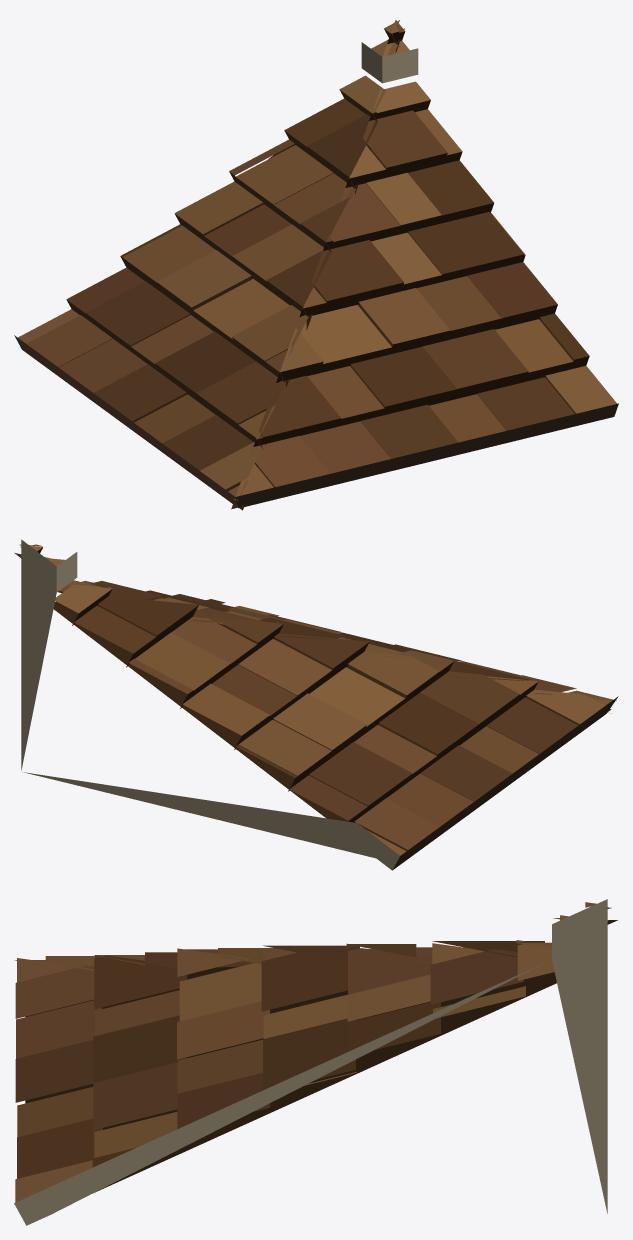
The model's file is roof-corner-wood.glb.
3 views of the same model, one above another, from view 1: azimuth 30°, elevation 25°; view 2: azimuth 150°, elevation 25°; view 3: azimuth 270°, elevation 25° (orthographic). The views are drawn at different scales.
Visible parts, largest first — view 1: roof-corner-wood; view 2: roof-corner-wood; view 3: roof-corner-wood.
Part boxes in pixels (bbox=[...]): roof-corner-wood: bbox=[14, 20, 618, 510]; roof-corner-wood: bbox=[14, 539, 618, 870]; roof-corner-wood: bbox=[14, 899, 617, 1225].
Size of the model in its own units: 1.09 by 0.6483 by 1.09.
